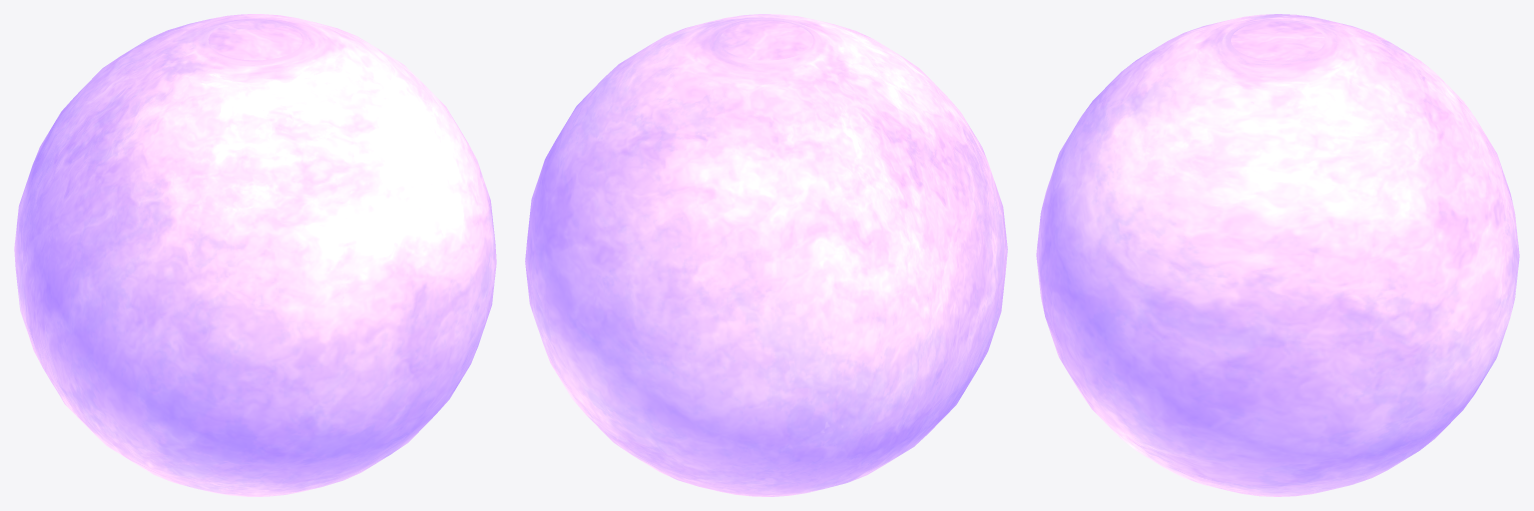
The model's file is planet1.glb.
The picture shows the model from 3 angles, left to right: view 1: azimuth 30°, elevation 25°; view 2: azimuth 150°, elevation 25°; view 3: azimuth 270°, elevation 25°; orthographic projection.
Parts seen in each view (by area): view 1: Planet; view 2: Planet; view 3: Planet.
Part boxes in pixels (x1,y1,x2,y2): Planet: [14, 14, 496, 496]; Planet: [525, 14, 1007, 496]; Planet: [1036, 14, 1519, 496].
Bounding box in the file's own units: 2 × 2 × 2.
1 material, 1 textured.
